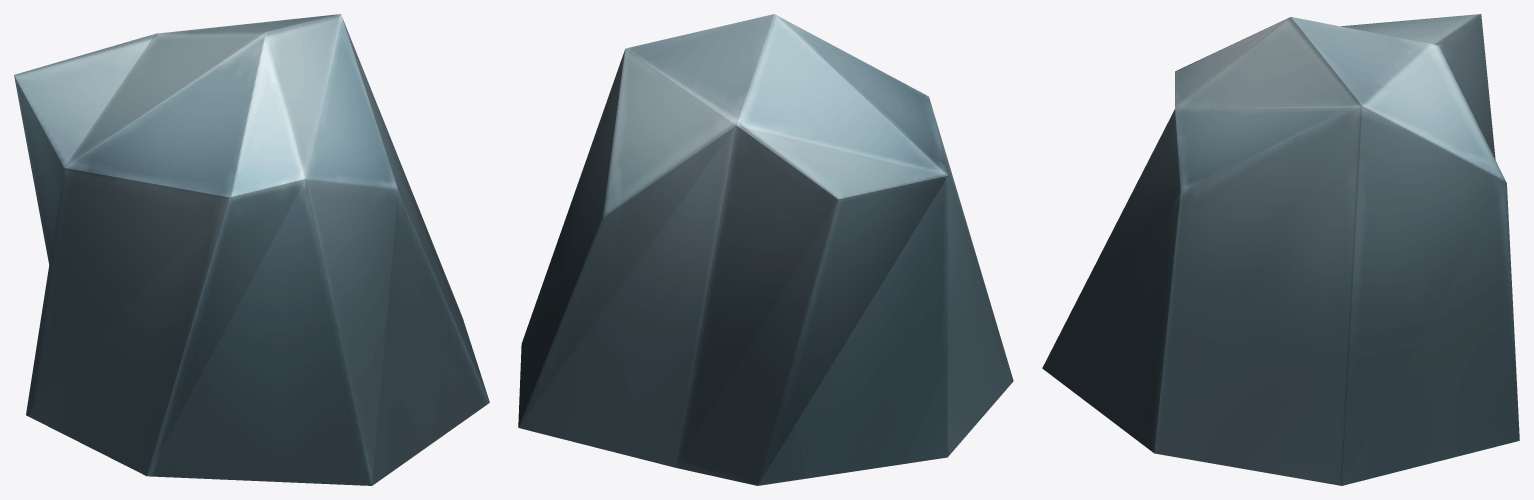
Rendered from rocks.fbx.
3 views of the same model, side by side, from view 1: azimuth 30°, elevation 25°; view 2: azimuth 150°, elevation 25°; view 3: azimuth 270°, elevation 25° (orthographic). The views are drawn at different scales.
Parts seen in each view (by area): view 1: rock_01; view 2: rock_01; view 3: rock_01.
Boxes of the visible parts, x1,y1,x2,y2 form: rock_01: (14,14,489,485); rock_01: (518,14,1013,485); rock_01: (1042,14,1519,485).
Size of the model in its own units: 5.61 by 4.5 by 5.41.
